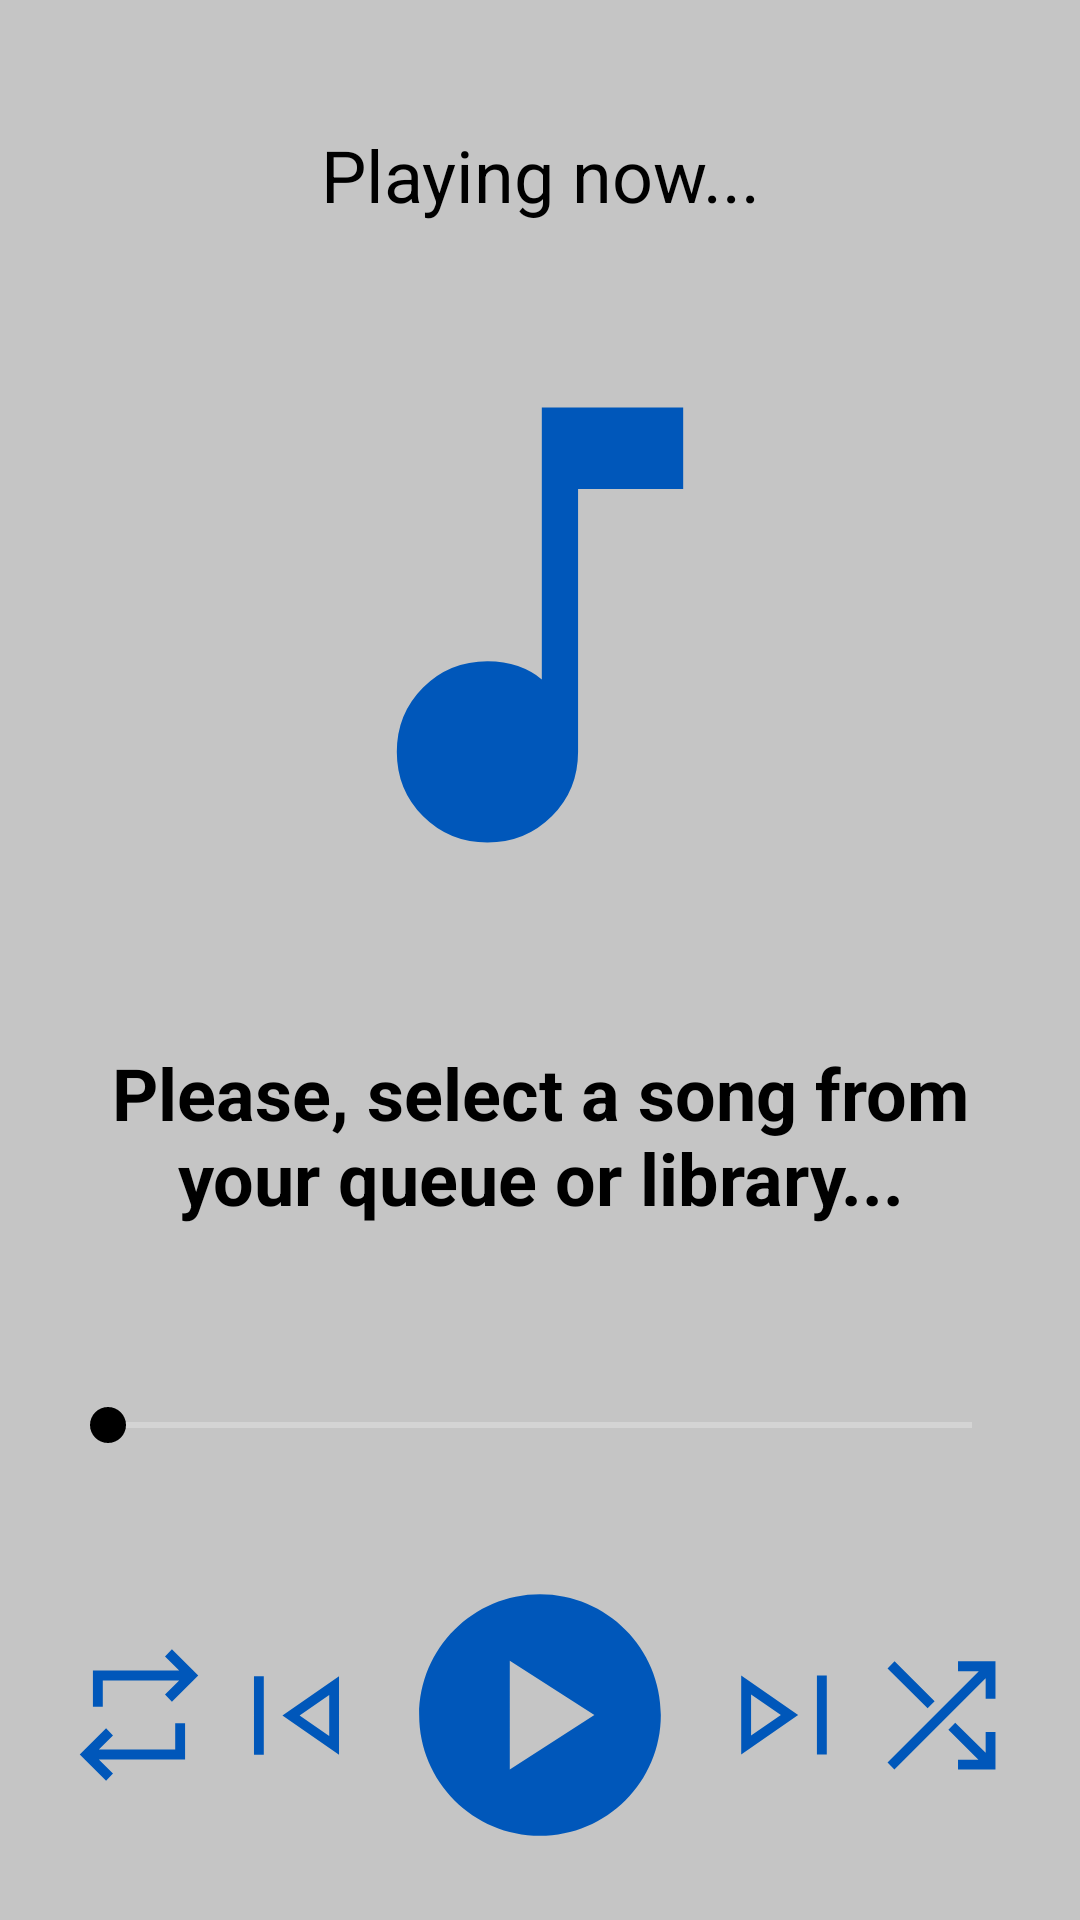

Named icons in this screenshot (1080px×1920px) and their centers, (x,y):
play circle: (540,1715)
repeat: (139,1715)
shuffle: (941,1715)
skip next: (784,1715)
skip previous: (296,1715)
